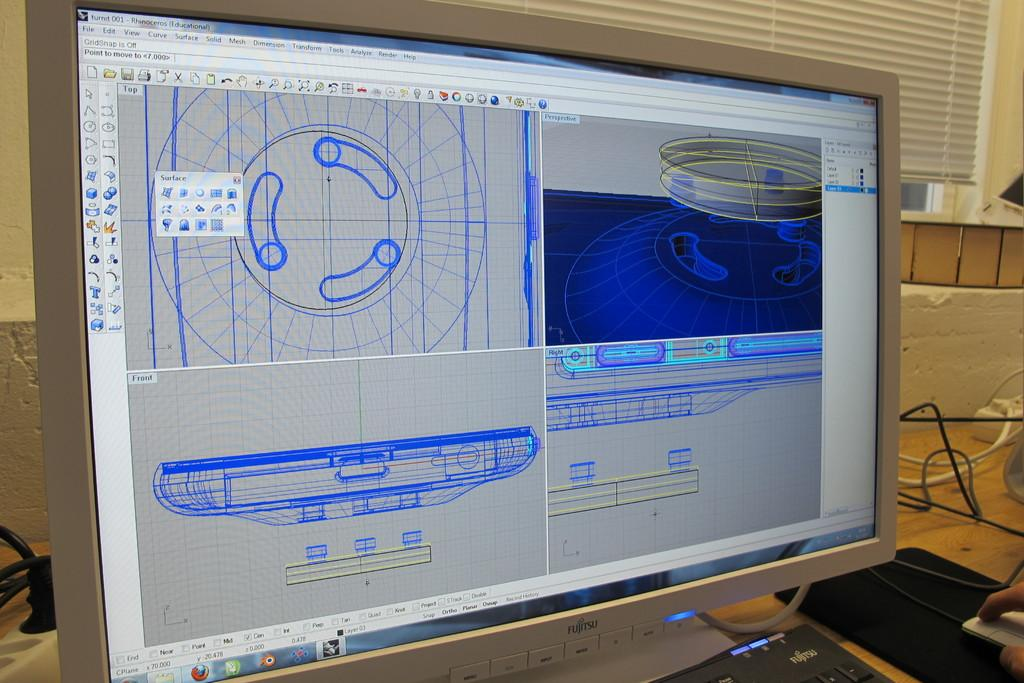Laptop: (25, 0, 903, 682)
